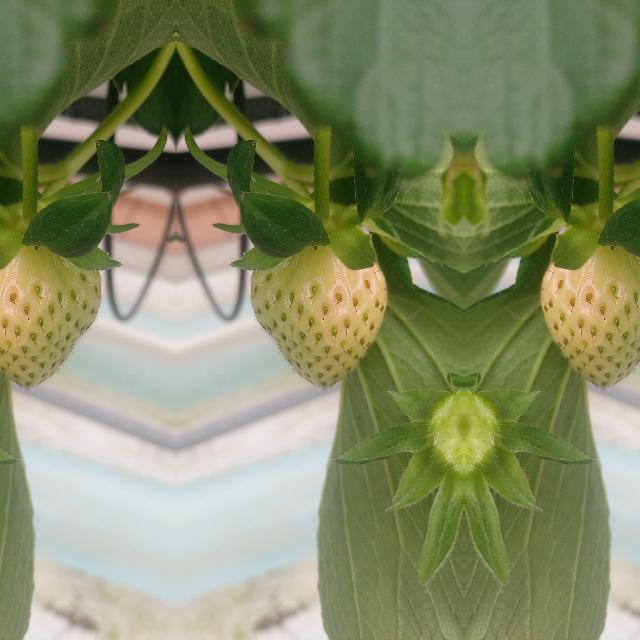Health_50: (250, 246, 386, 386), (0, 246, 100, 386), (540, 246, 640, 386)
